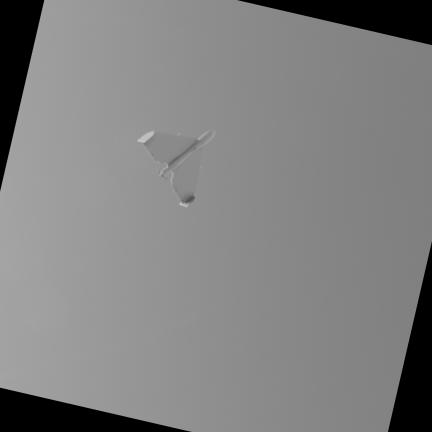Shahed: (138, 131, 213, 206)
